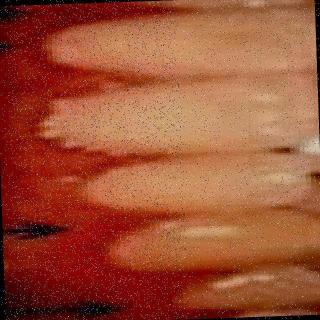Gum Swelling: (3, 53, 126, 320)
plaque: (37, 70, 125, 170)
